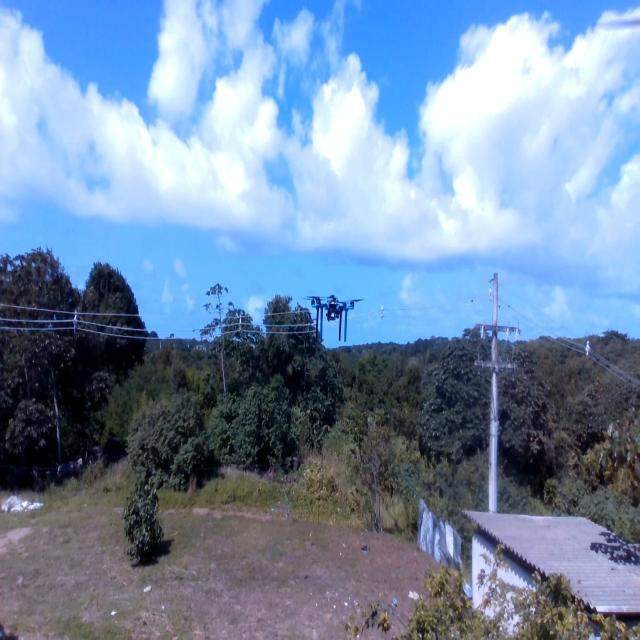-uav-: (298, 272, 369, 350)
